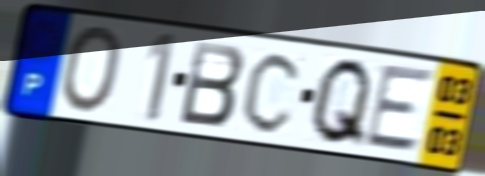1: (144, 29, 177, 126)
B: (176, 37, 247, 129)
C: (239, 48, 305, 136)
E: (361, 63, 439, 155)
O: (57, 23, 124, 116)
Q: (306, 55, 376, 152)
